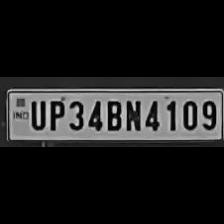0: (178, 97, 198, 130)
1: (162, 98, 178, 132)
3: (64, 97, 84, 131)
4: (141, 97, 161, 131), (85, 97, 103, 131)
9: (198, 97, 218, 130)
B: (104, 97, 122, 131)
N: (123, 97, 141, 131)
P: (46, 97, 64, 131)
U: (27, 97, 45, 130)
